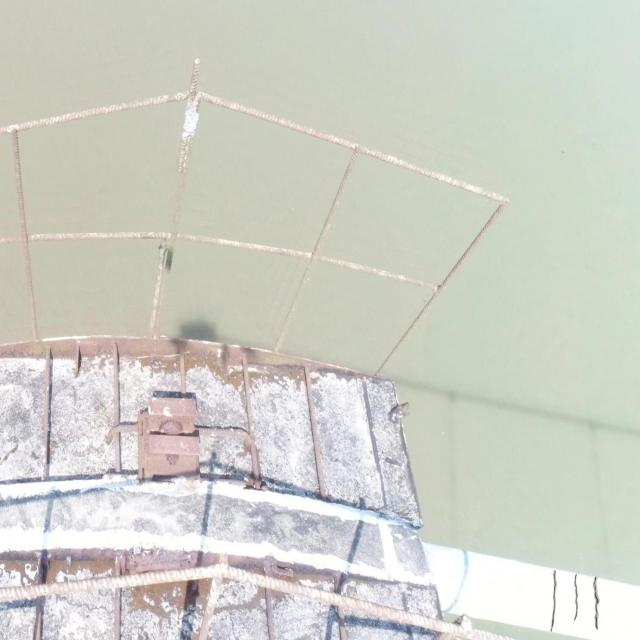crack: (550, 569, 558, 632), (591, 576, 600, 631), (572, 573, 579, 621)
